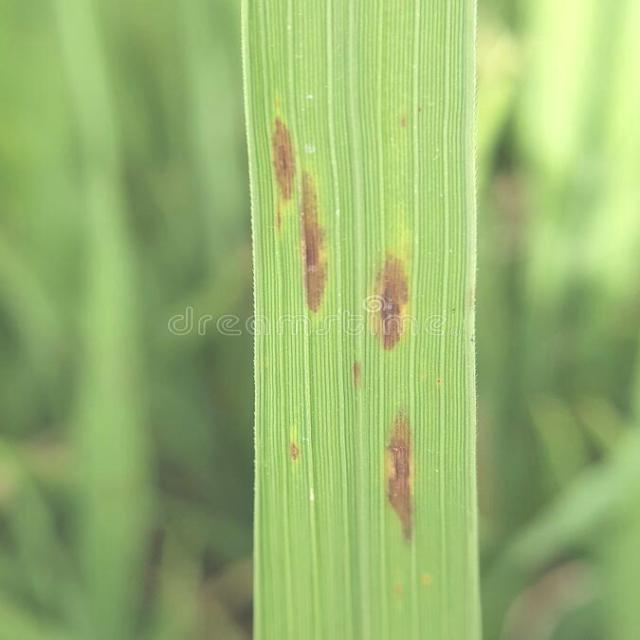Brown_Spot: (378, 396, 436, 554), (359, 238, 427, 357), (292, 166, 335, 320), (266, 109, 310, 212), (278, 419, 314, 471)
